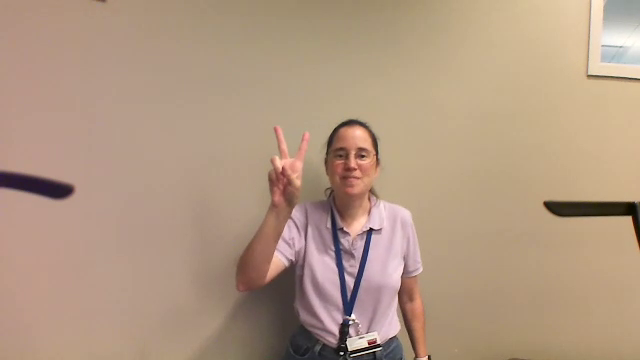peace: (253, 114, 315, 206)
